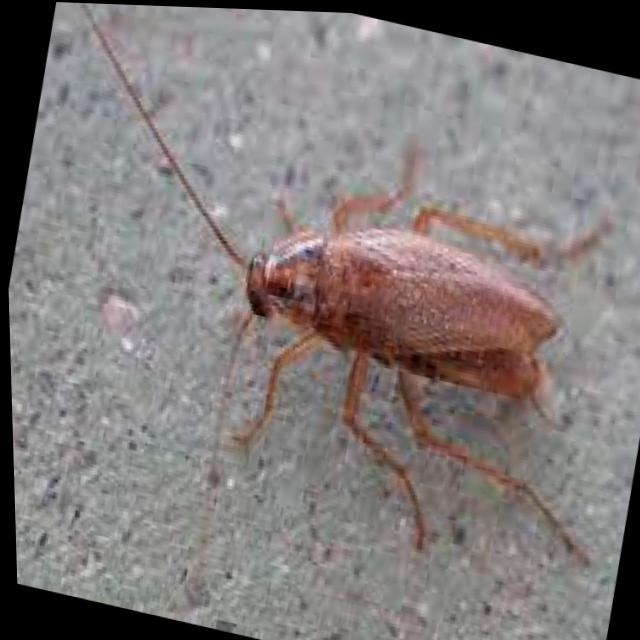Cockroach: (0, 0, 640, 623)
